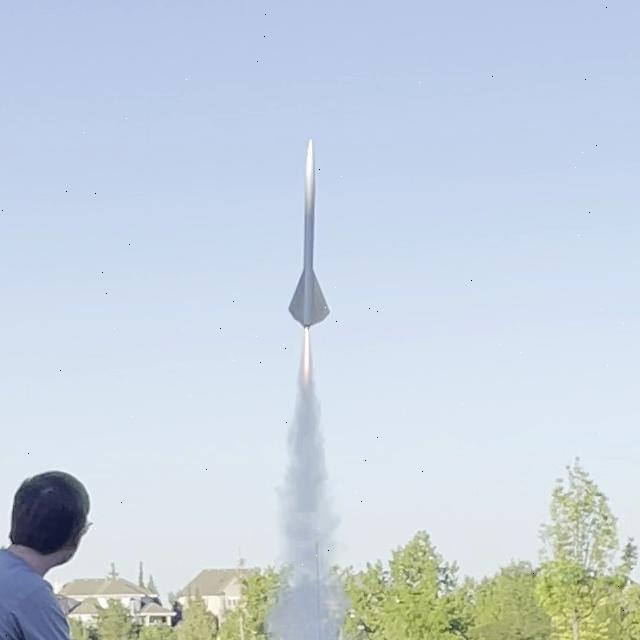rocket: (289, 146, 328, 336)
